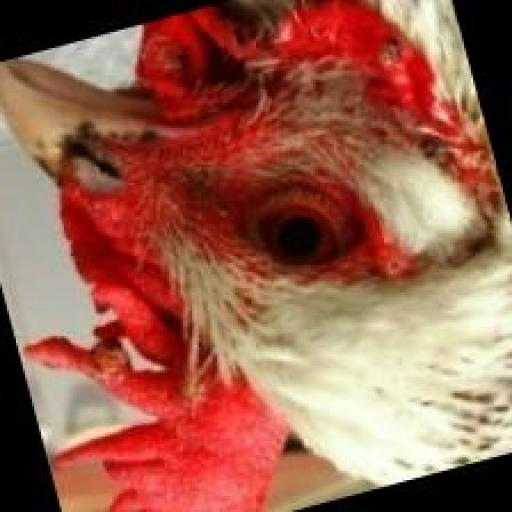disease: (24, 337, 239, 440), (45, 118, 145, 331)
